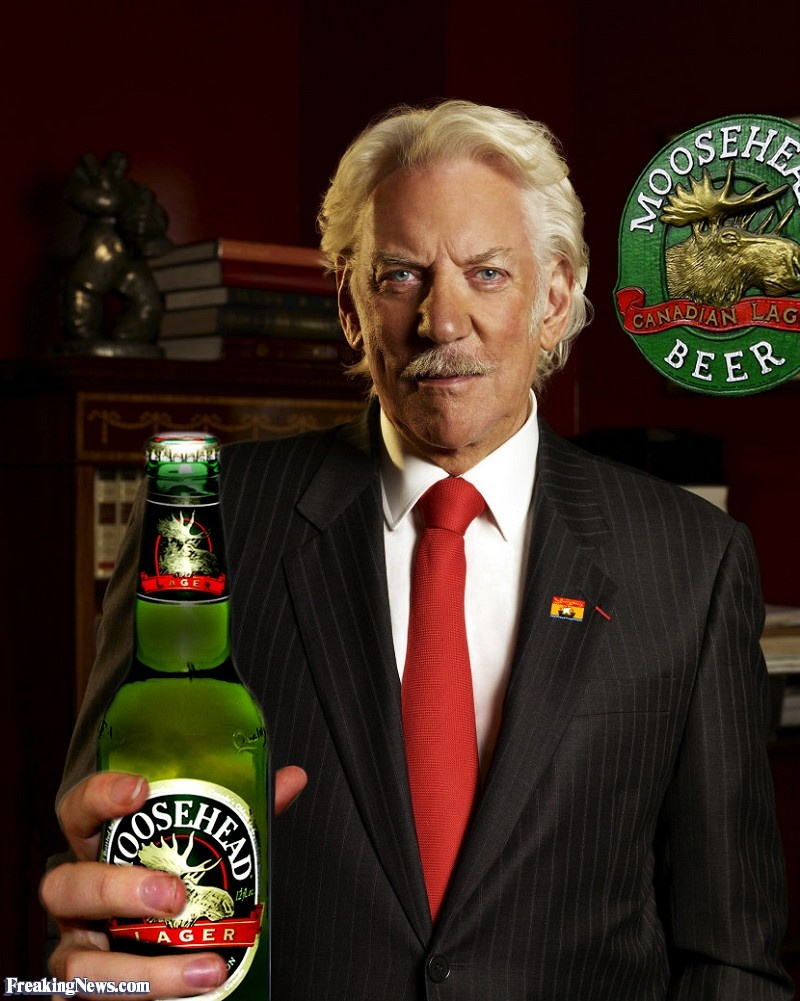beerBottle: (98, 429, 266, 991)
